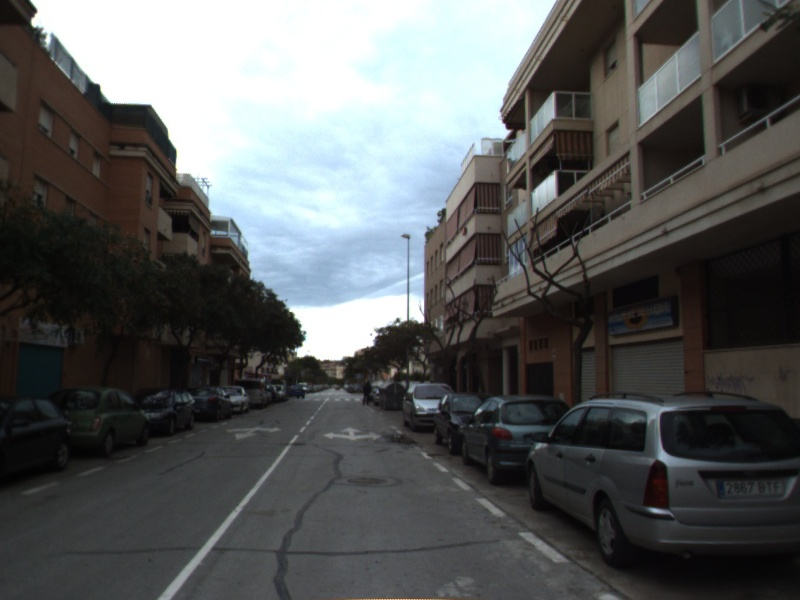STRAIGHT_LEFT_RIGHT: (321, 425, 384, 442)
